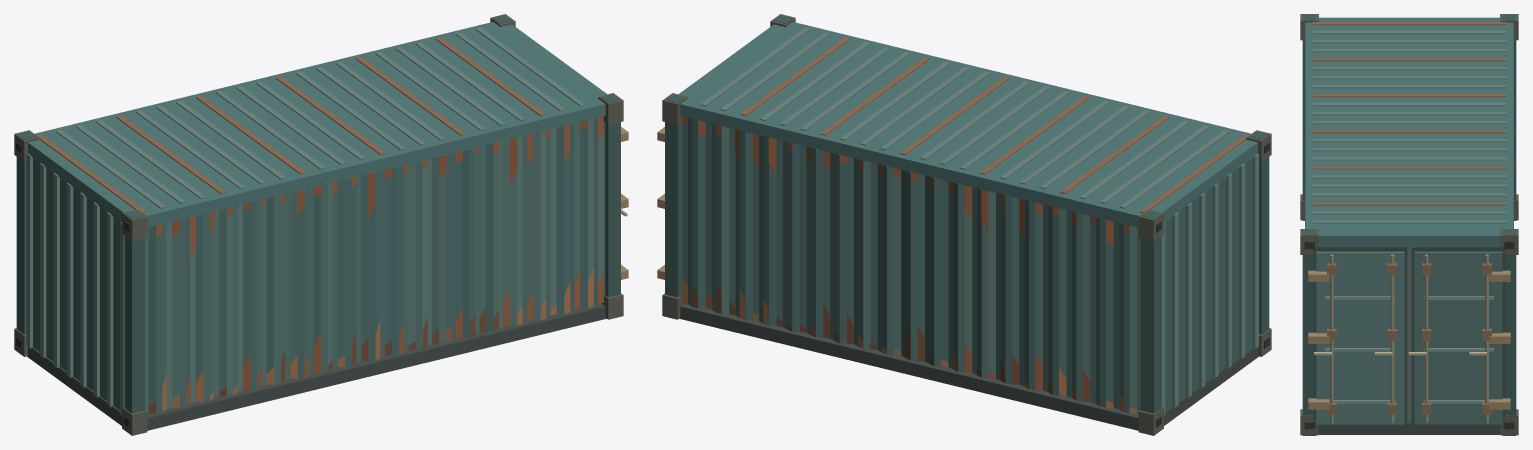
The model's file is 废弃集装箱.glb.
3 renders of one model, left to right at view 1: azimuth 30°, elevation 25°; view 2: azimuth 150°, elevation 25°; view 3: azimuth 270°, elevation 25°, orthographic. The views are drawn at different scales.
Parts seen in each view (by area): view 1: Corrugated side panels, Container frame, Corrugated roof, Rear wall; view 2: Corrugated side panels, Container frame, Corrugated roof, Rear wall; view 3: Container frame, Double doors, Corrugated roof, Corrugated side panels.
Part boxes in pixels (bbox=[...]): Corrugated side panels: bbox=[145, 116, 605, 413]; Container frame: bbox=[27, 22, 607, 430]; Corrugated roof: bbox=[14, 14, 623, 435]; Rear wall: bbox=[26, 153, 124, 415]; Corrugated side panels: bbox=[680, 116, 1140, 413]; Container frame: bbox=[678, 22, 1258, 430]; Corrugated roof: bbox=[662, 14, 1271, 435]; Rear wall: bbox=[1161, 154, 1258, 415]; Container frame: bbox=[1305, 17, 1513, 434]; Double doors: bbox=[1308, 245, 1510, 427]; Corrugated roof: bbox=[1300, 14, 1518, 435]; Corrugated side panels: bbox=[1304, 84, 1514, 228].
Bounding box in the file's own units: 6.3 × 2.6 × 2.56.
